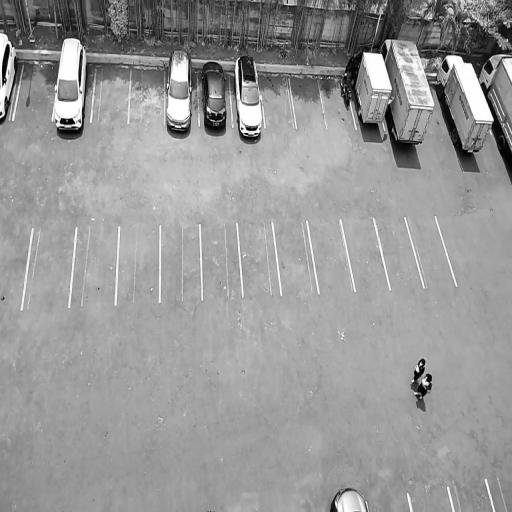Car: (379, 23, 439, 155), (431, 47, 496, 161), (345, 35, 395, 136), (477, 40, 512, 171), (50, 33, 93, 139), (229, 52, 265, 144), (199, 52, 232, 138), (166, 45, 196, 138), (0, 27, 21, 142), (328, 488, 368, 512)
Space Available: (22, 226, 75, 307), (71, 224, 119, 306), (342, 218, 390, 292), (375, 217, 424, 289), (408, 216, 457, 287), (117, 226, 161, 304), (274, 223, 319, 295), (200, 224, 242, 301), (160, 226, 201, 303), (239, 223, 281, 297), (308, 220, 352, 290), (13, 57, 59, 120), (0, 225, 31, 308), (91, 65, 131, 123), (260, 69, 296, 127), (129, 62, 163, 123), (291, 75, 327, 130), (448, 482, 492, 512), (409, 486, 453, 512), (368, 493, 412, 512)
